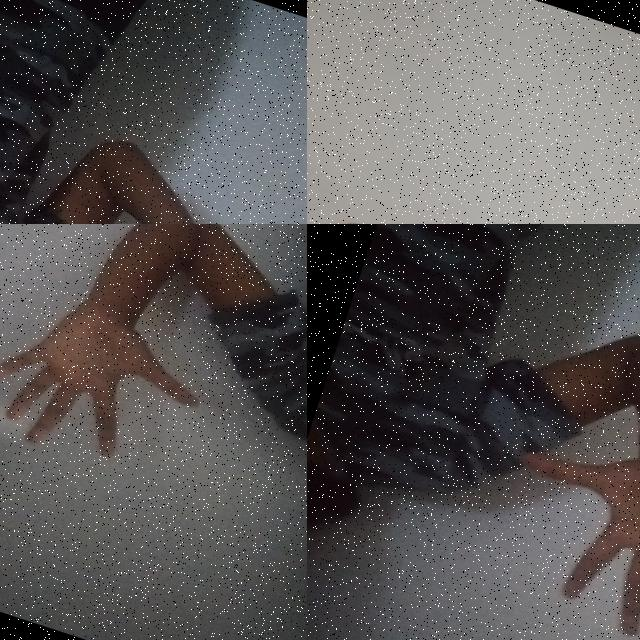Moutza: (0, 265, 224, 498), (468, 389, 640, 640)
